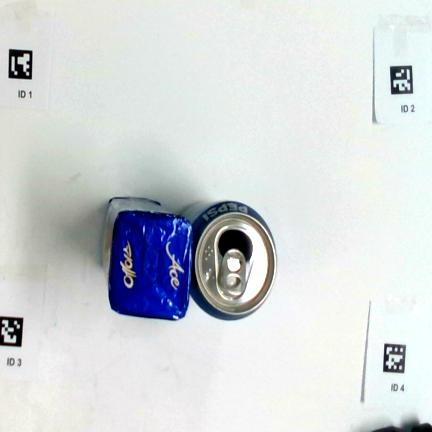can_pepsi: (184, 200, 276, 319)
cracker_ace: (103, 197, 192, 320)
